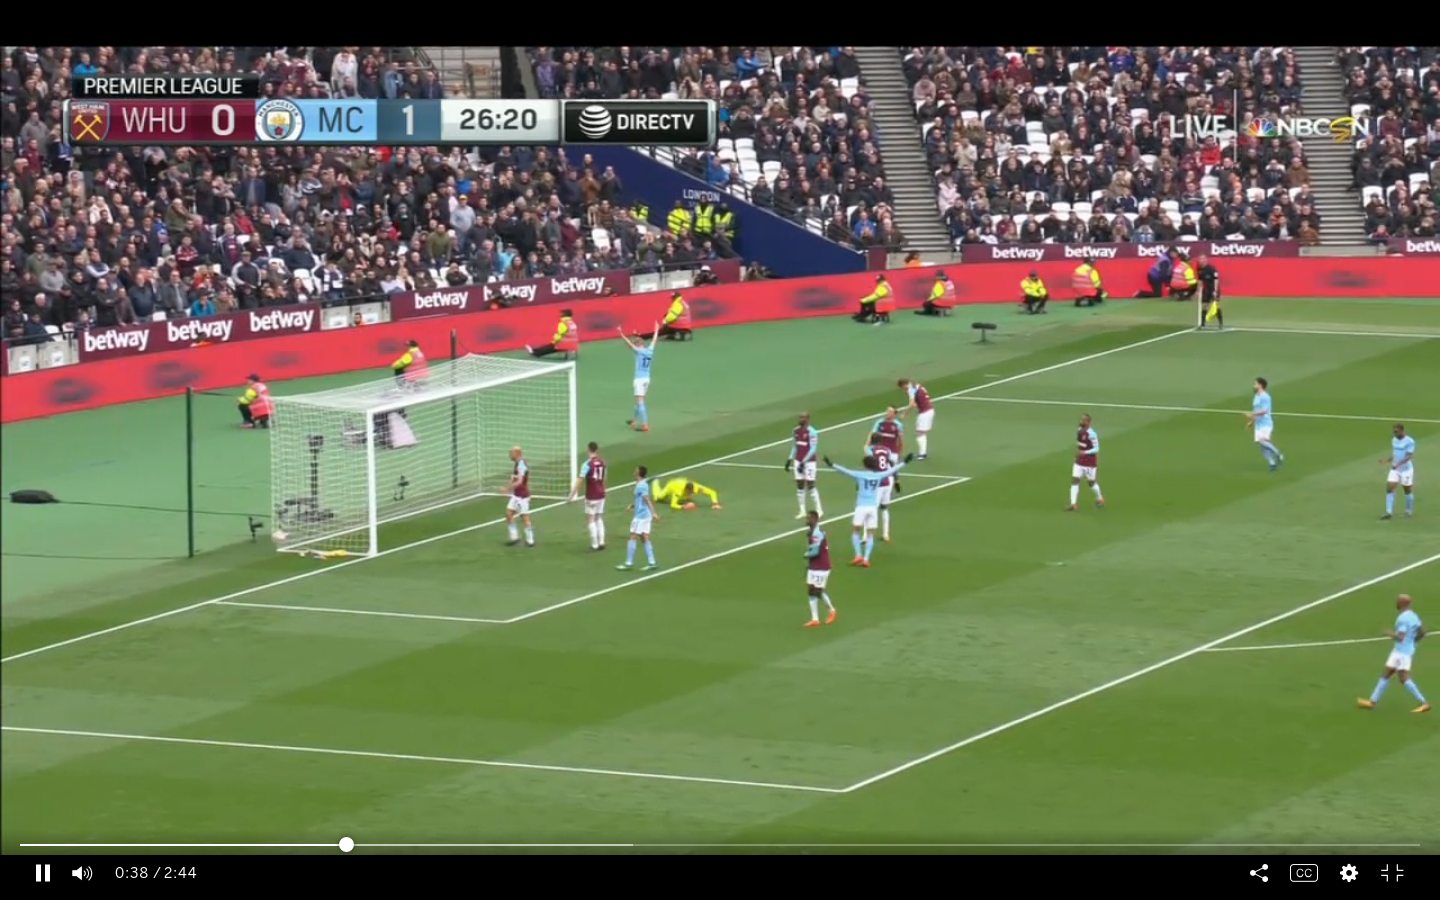referee: (1196, 248, 1230, 336)
soccer player: (1355, 591, 1432, 716), (827, 459, 912, 565), (1370, 420, 1427, 529), (1238, 371, 1296, 476), (567, 436, 616, 560), (615, 322, 664, 440), (1065, 412, 1118, 519), (798, 503, 842, 632), (787, 406, 832, 525), (619, 459, 662, 580), (498, 439, 539, 559), (898, 362, 939, 466), (655, 465, 725, 516), (861, 400, 907, 472)
soccerball: (265, 525, 293, 549)
